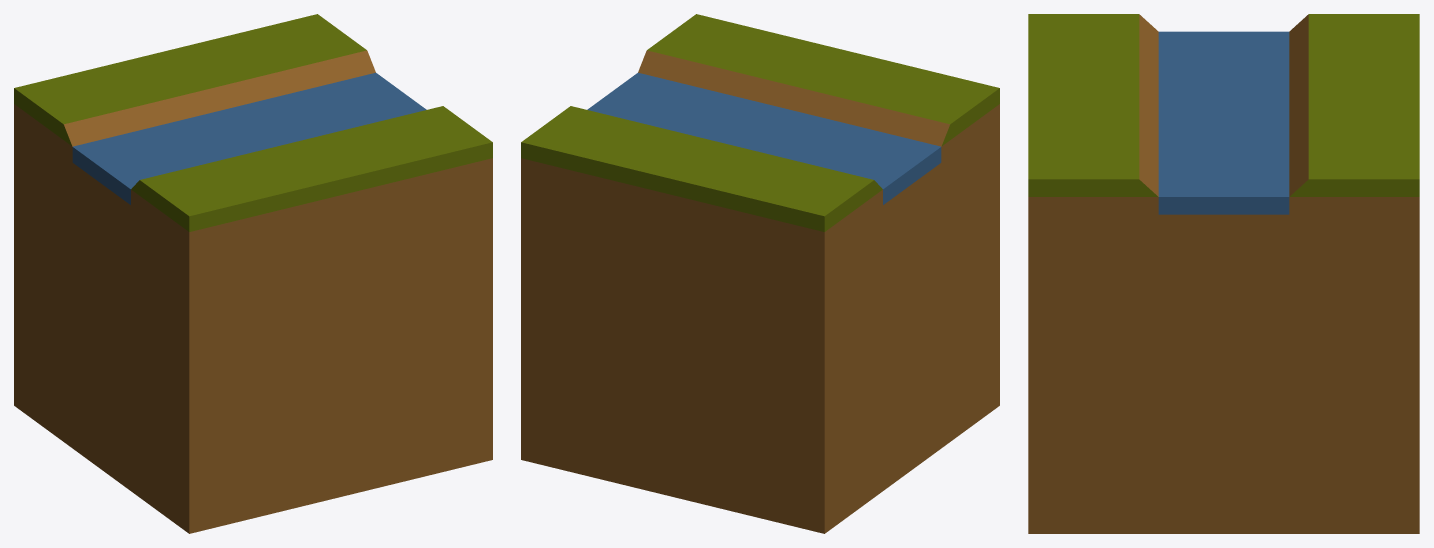
File: ForestRiverStraightCube.fbx
3 renders of one model, left to right at view 1: azimuth 30°, elevation 25°; view 2: azimuth 150°, elevation 25°; view 3: azimuth 270°, elevation 25°, orthographic. The views are drawn at different scales.
Visible parts, largest first — view 1: ForestRiverStraightCube; view 2: ForestRiverStraightCube; view 3: ForestRiverStraightCube.
Boxes of the visible parts, box(x1,y1,x2,y2) form: ForestRiverStraightCube: box(14, 14, 492, 533); ForestRiverStraightCube: box(521, 14, 999, 533); ForestRiverStraightCube: box(1028, 14, 1419, 533).
Size of the model in its own units: 100 by 100 by 100.
